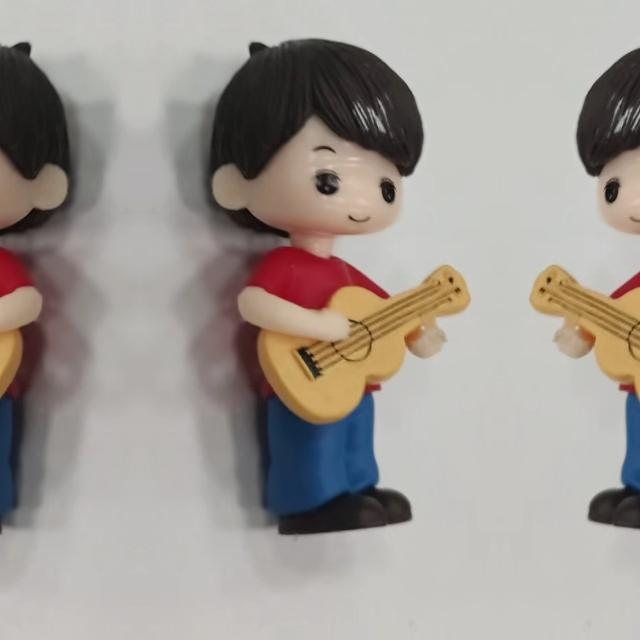man cloth: (220, 252, 432, 396), (568, 251, 640, 396), (0, 251, 59, 396)
man head: (206, 25, 424, 245), (0, 25, 74, 245), (576, 25, 640, 245)
trousers: (254, 387, 422, 545), (578, 387, 640, 545), (0, 387, 25, 545)
